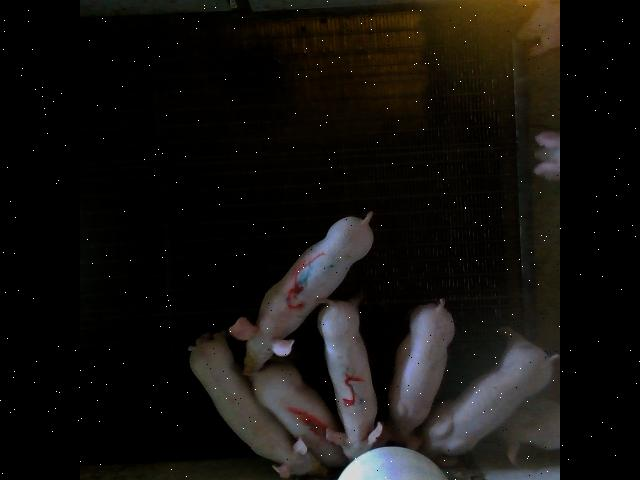pig-1: (250, 359, 348, 466)
pig-3: (229, 211, 373, 374)
pig-5: (318, 297, 382, 459)
